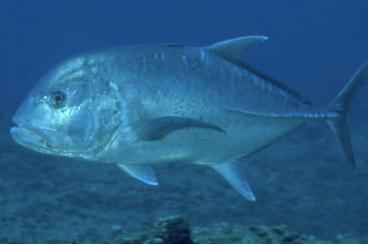Carangidae -Jacks-: (9, 29, 368, 203)
